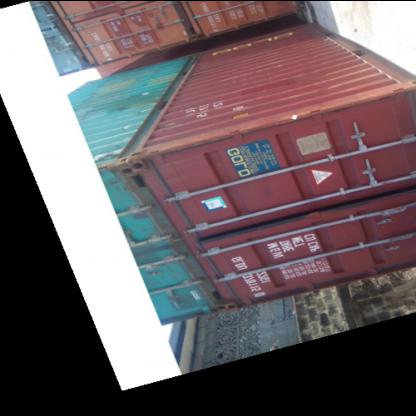Damage: (140, 118, 298, 160)
